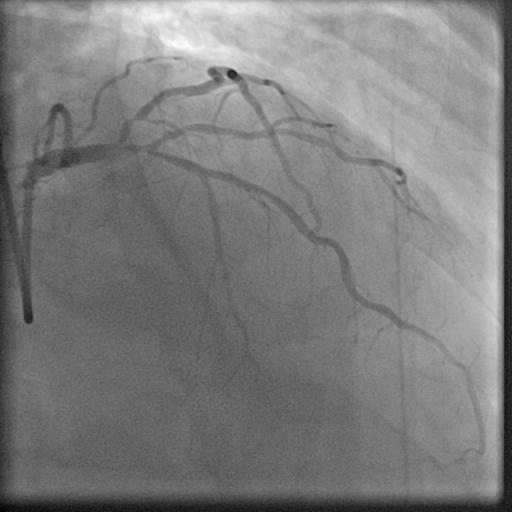Stenosis: (120, 110, 143, 134)
